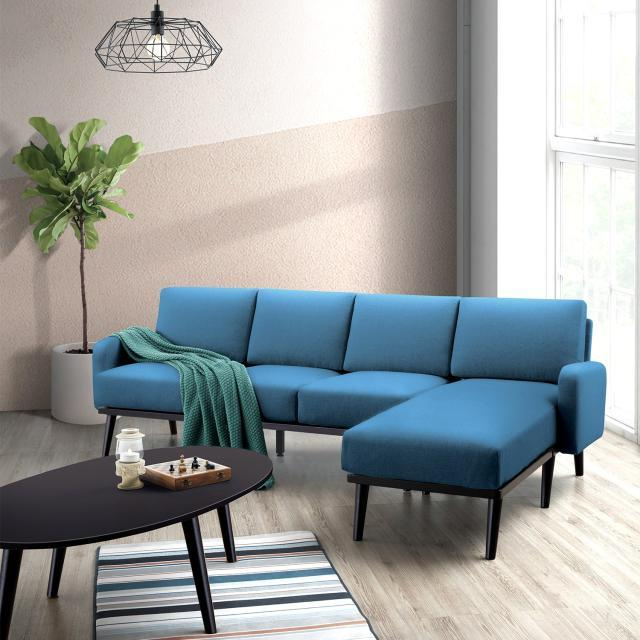sofa: (90, 284, 608, 560)
